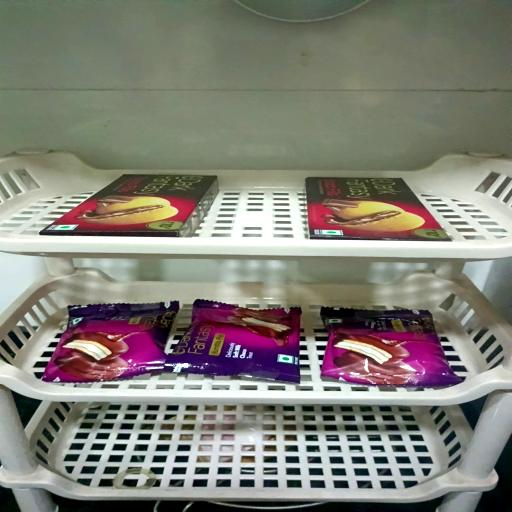Choco Fills: (39, 176, 216, 240), (306, 179, 451, 243)
Choco Pie: (320, 307, 464, 388), (41, 301, 177, 383), (168, 300, 302, 382)
